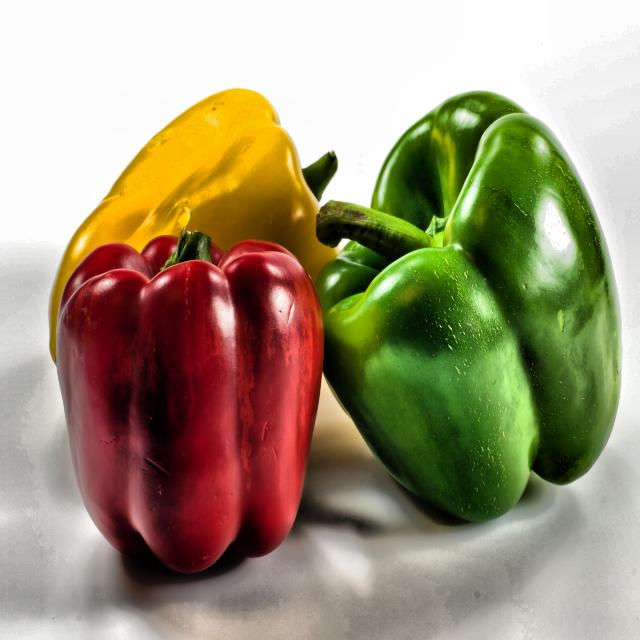capsicum: (320, 93, 622, 525), (51, 196, 330, 580)
